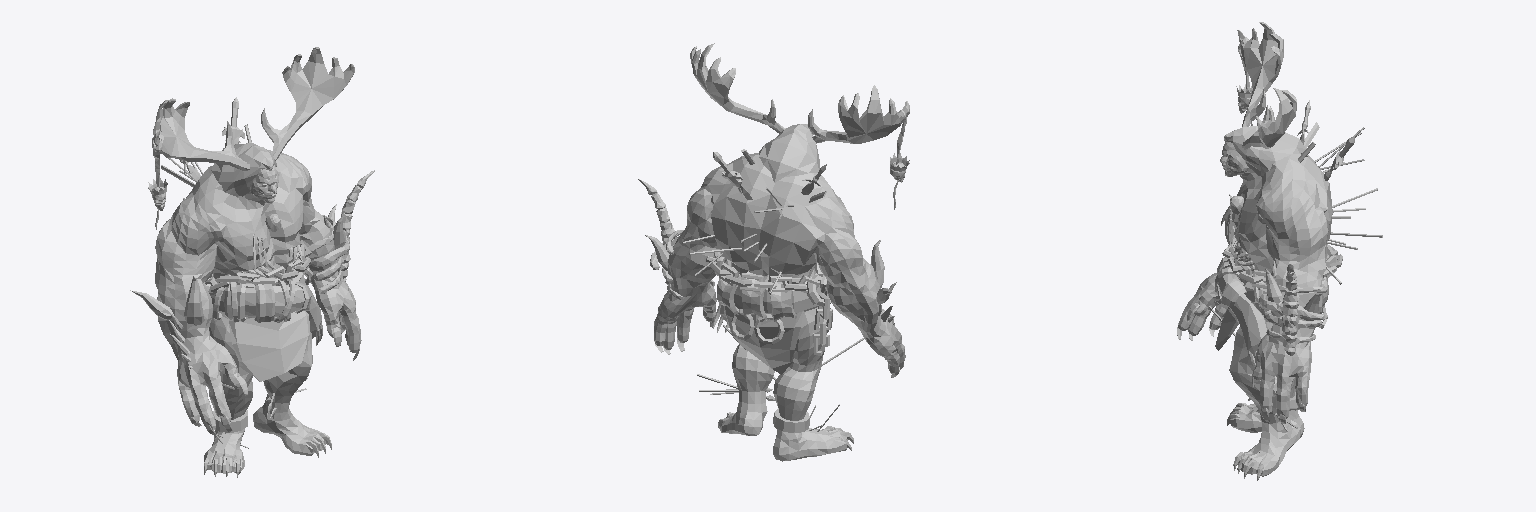
The model's file is walking_000001.obj.
The picture shows the model from 3 angles: view 1: azimuth 30°, elevation 25°; view 2: azimuth 150°, elevation 25°; view 3: azimuth 270°, elevation 25°; orthographic projection.
Parts seen in each view (by area): view 1: MAW; view 2: MAW; view 3: MAW.
Boxes of the visible parts, <box> form: MAW: <box>130,47,374,477</box>; MAW: <box>638,43,909,461</box>; MAW: <box>1177,22,1382,480</box>.
Bounding box in the file's own units: 15.6 × 23.31 × 11.1.